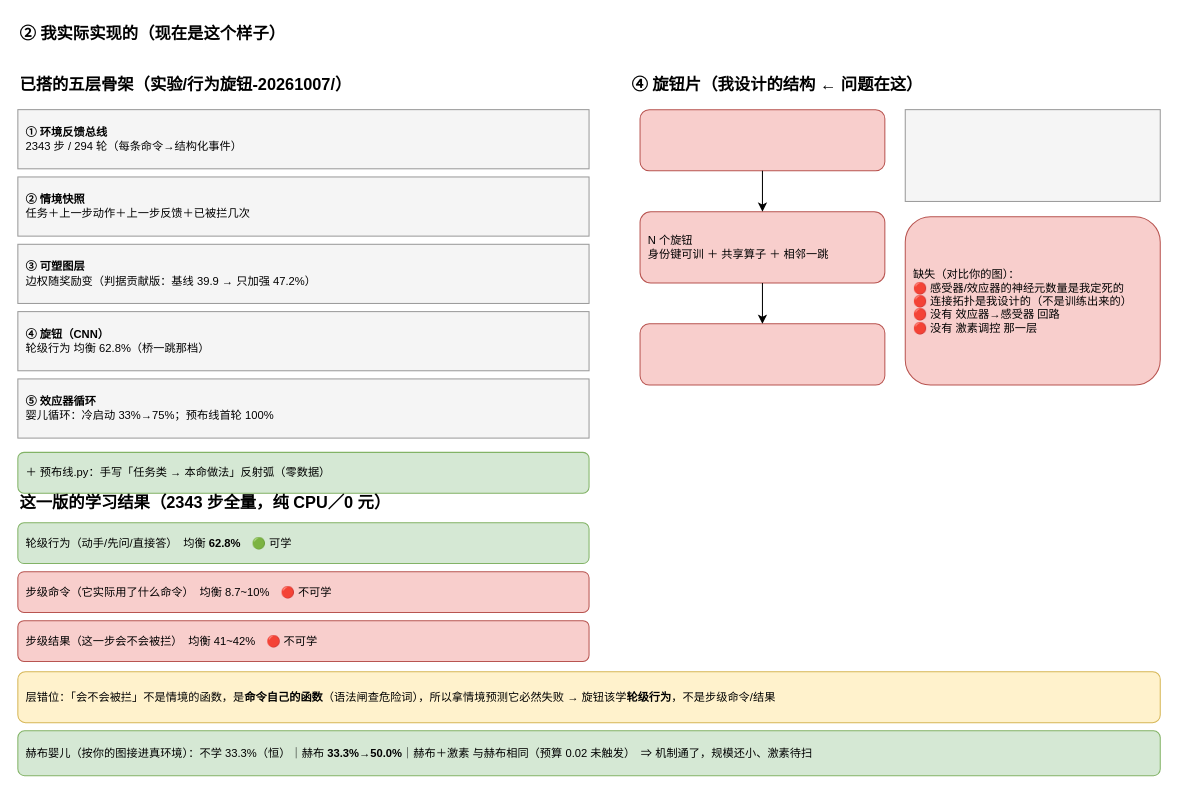
Some shapes in this 1178 by 794 pixel diagram are drawn without their labels. Here are the shapes that lost their labels. From the top down, the centre of each, then its label:
At (x=762, y=140): "感受器 情境向量 1024 维（固定）".
At (x=1032, y=155): "参数量：N=1→1.0万，N=128→14万（身份键占六成六） ★ 参数量取决于单体大小＋是否共享，与旋钮个数几乎无关".
At (x=762, y=354): "效应器 15 个命令族（固定）".
